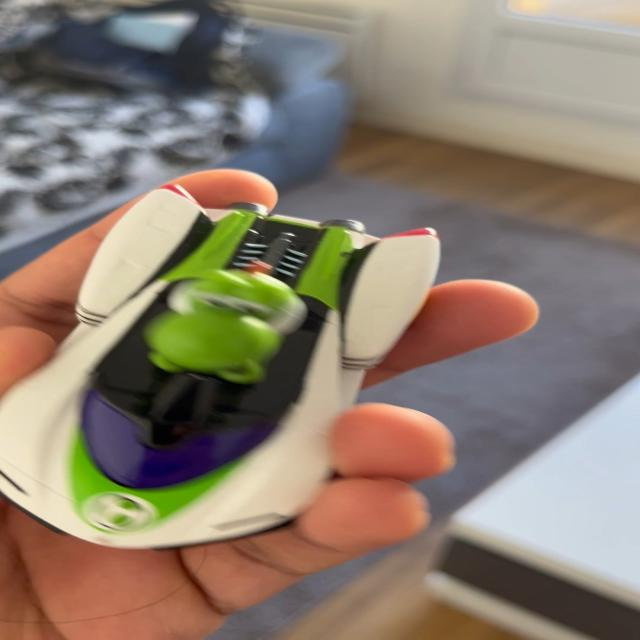yoshi: (4, 156, 457, 573)
